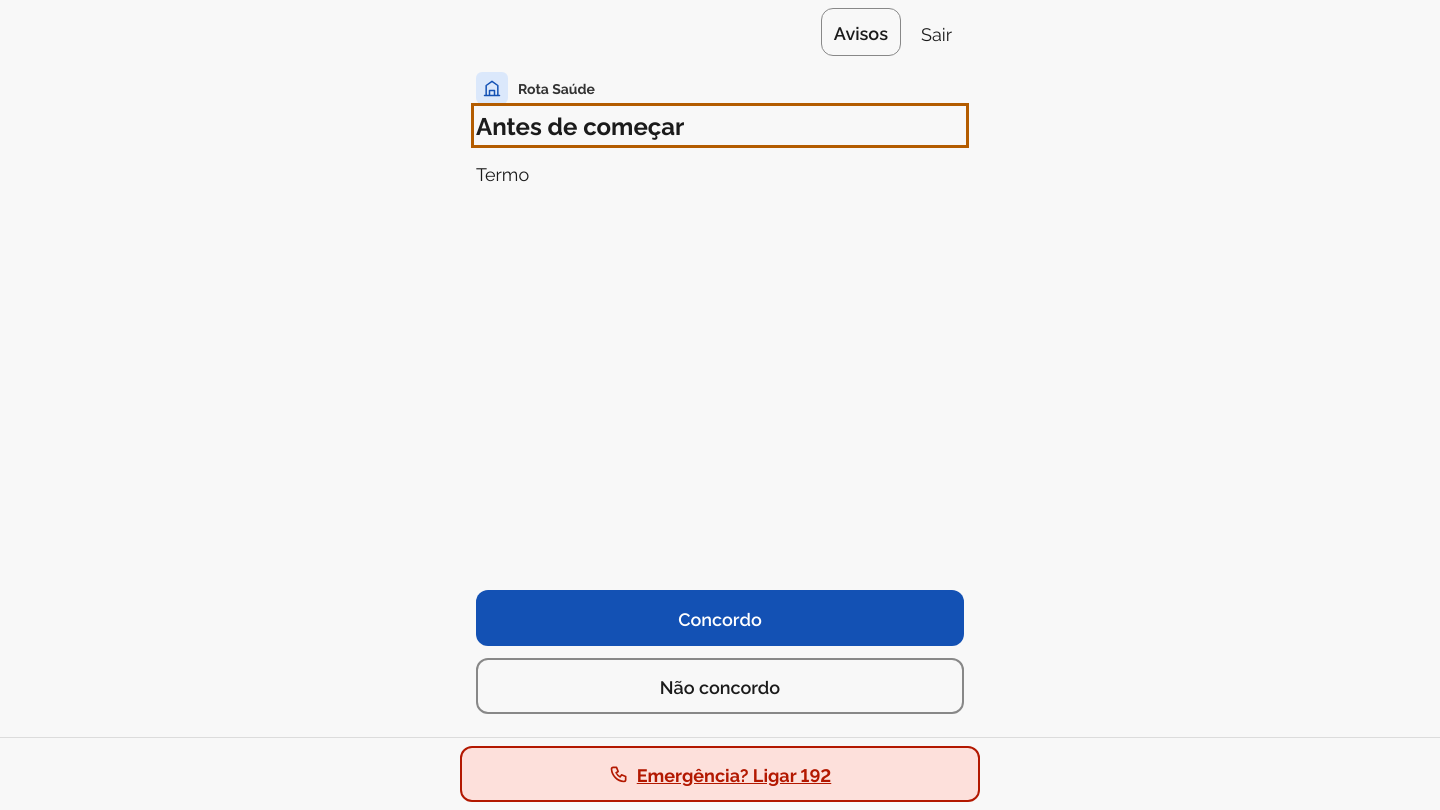
Test case: Flow — Ouvidoria (módulo 33) › com sessão: Para quem é → Ouvidoria → Nova manifestação → Voltar
Click the button "Concordo" at (720,618), box left=476, top=590, right=964, bottom=646
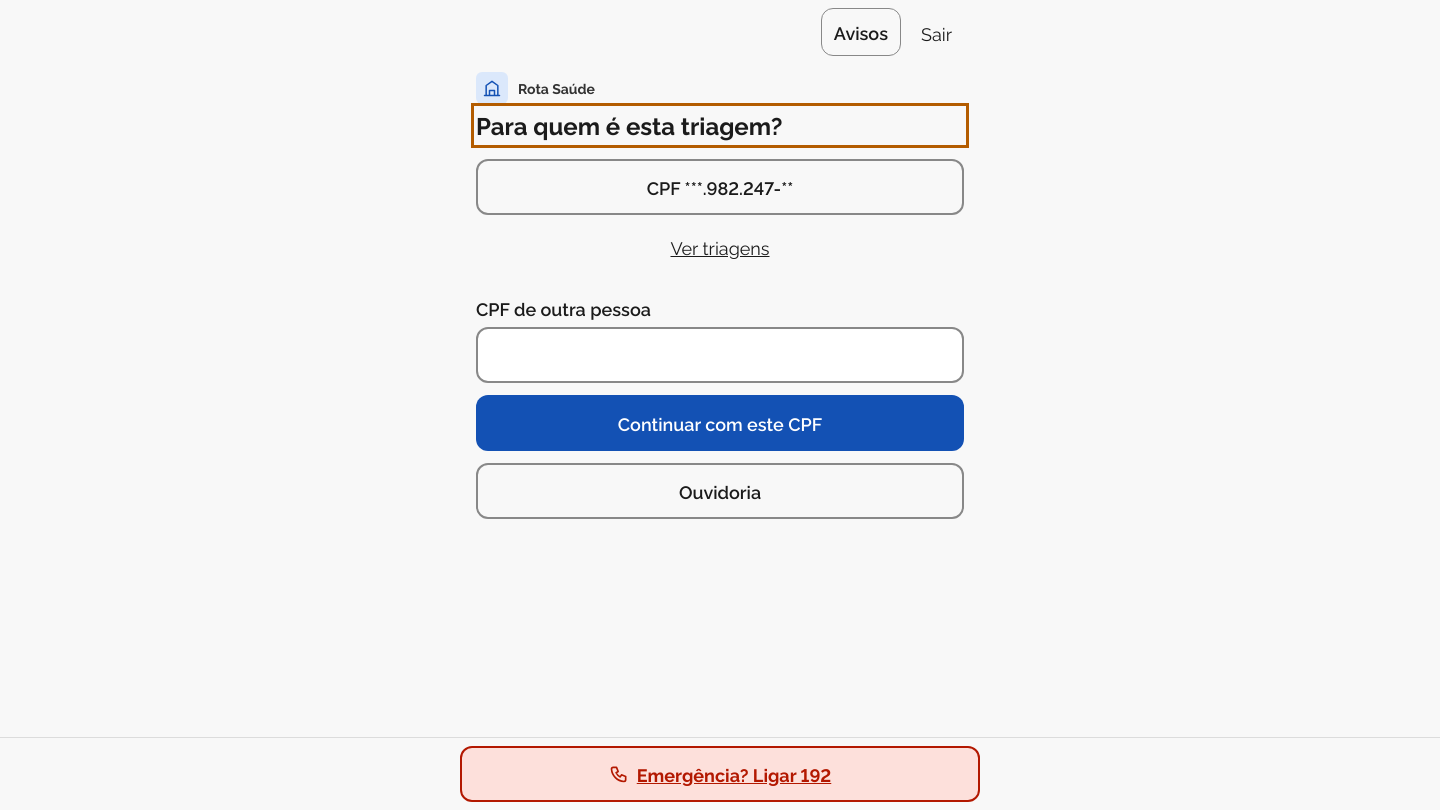
Click the button "Ouvidoria" at (720,491), box left=476, top=463, right=964, bottom=519
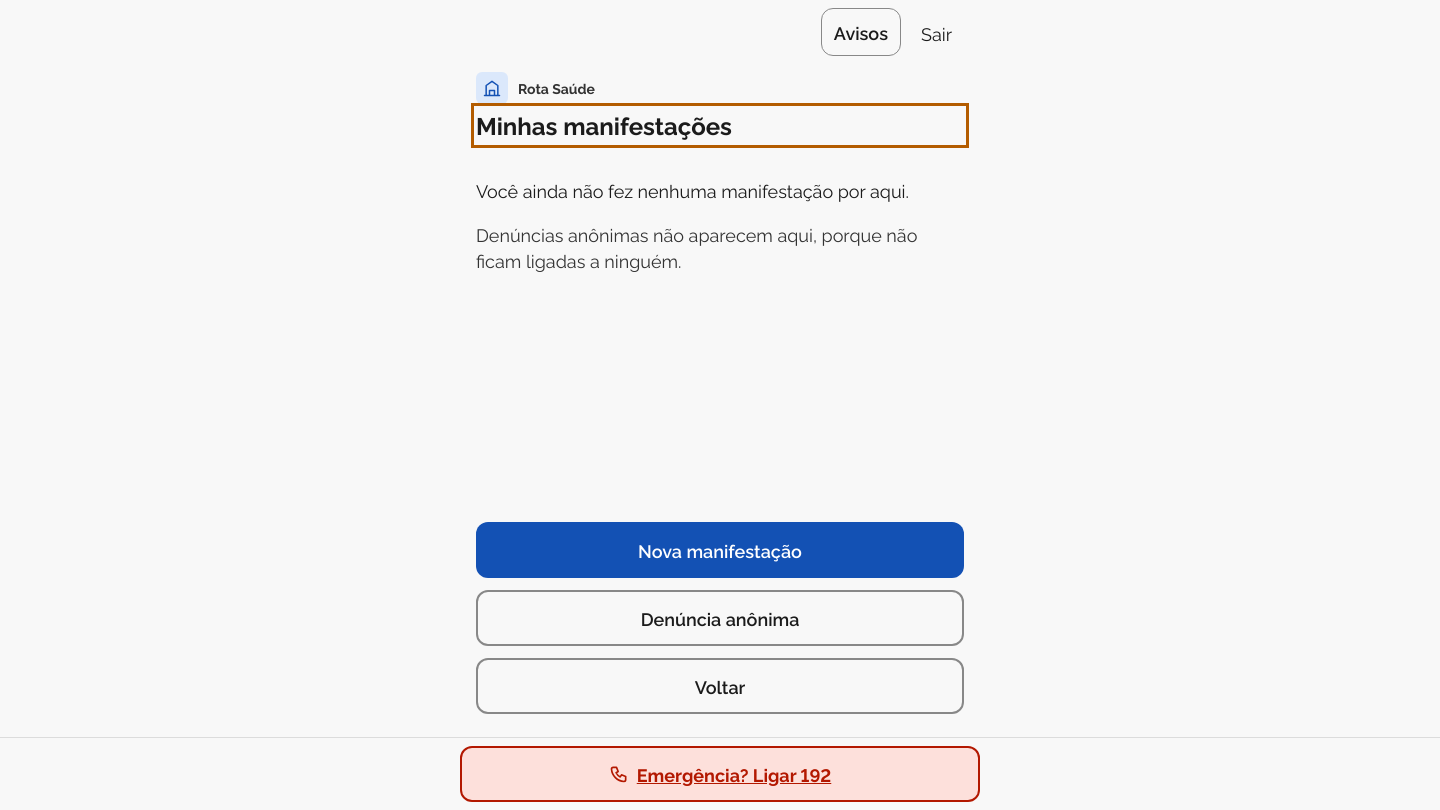
Expected: the button "Sair" is shown, left=909, top=8, right=964, bottom=56
Result: the heading "Minhas manifestações" is shown at left=476, top=108, right=732, bottom=141
Click the button "Nova manifestação" at (720,550), box left=476, top=522, right=964, bottom=578
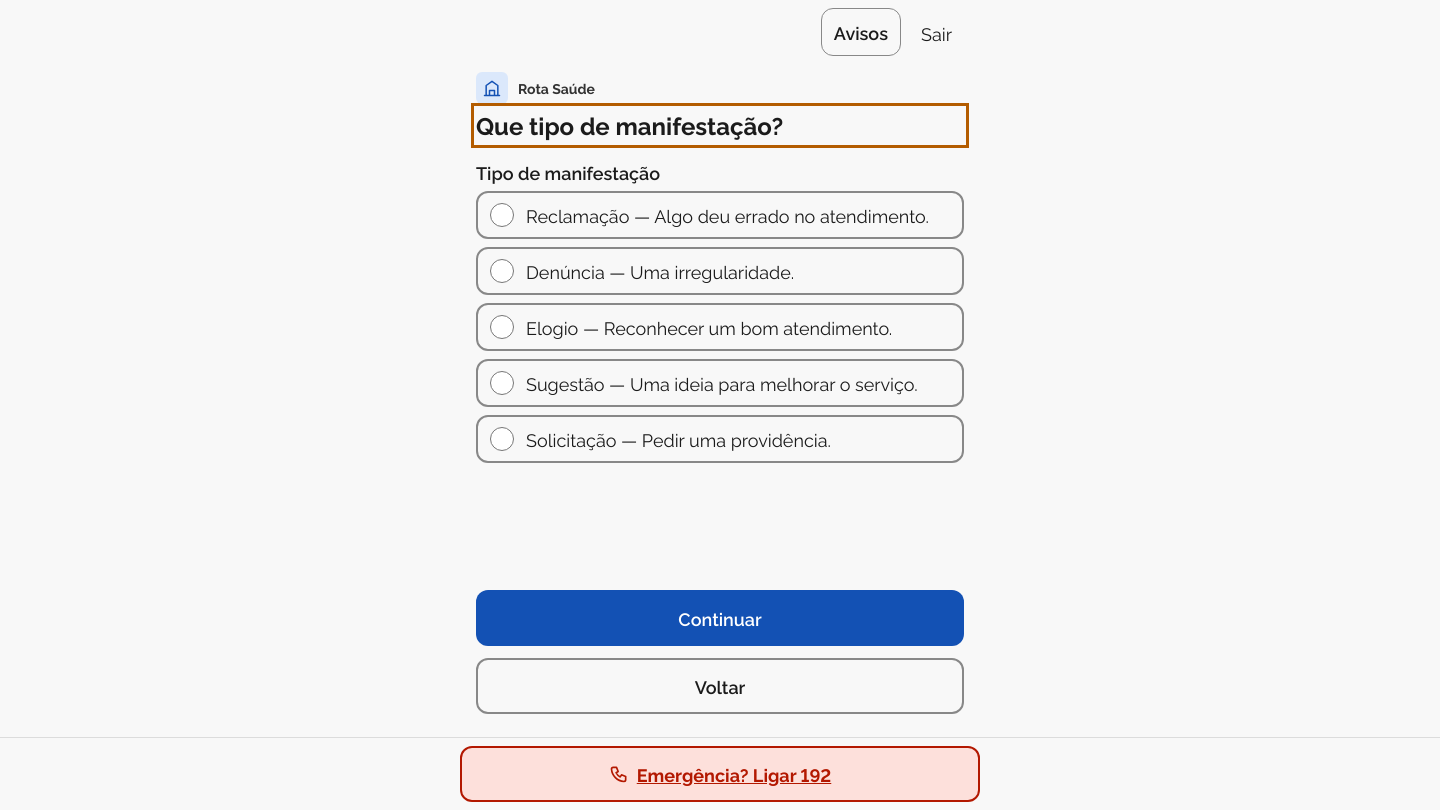
Result: the heading "Que tipo de manifestação?" is shown at left=476, top=108, right=783, bottom=141
Click the button "Voltar" at (720,686), box left=476, top=658, right=964, bottom=714
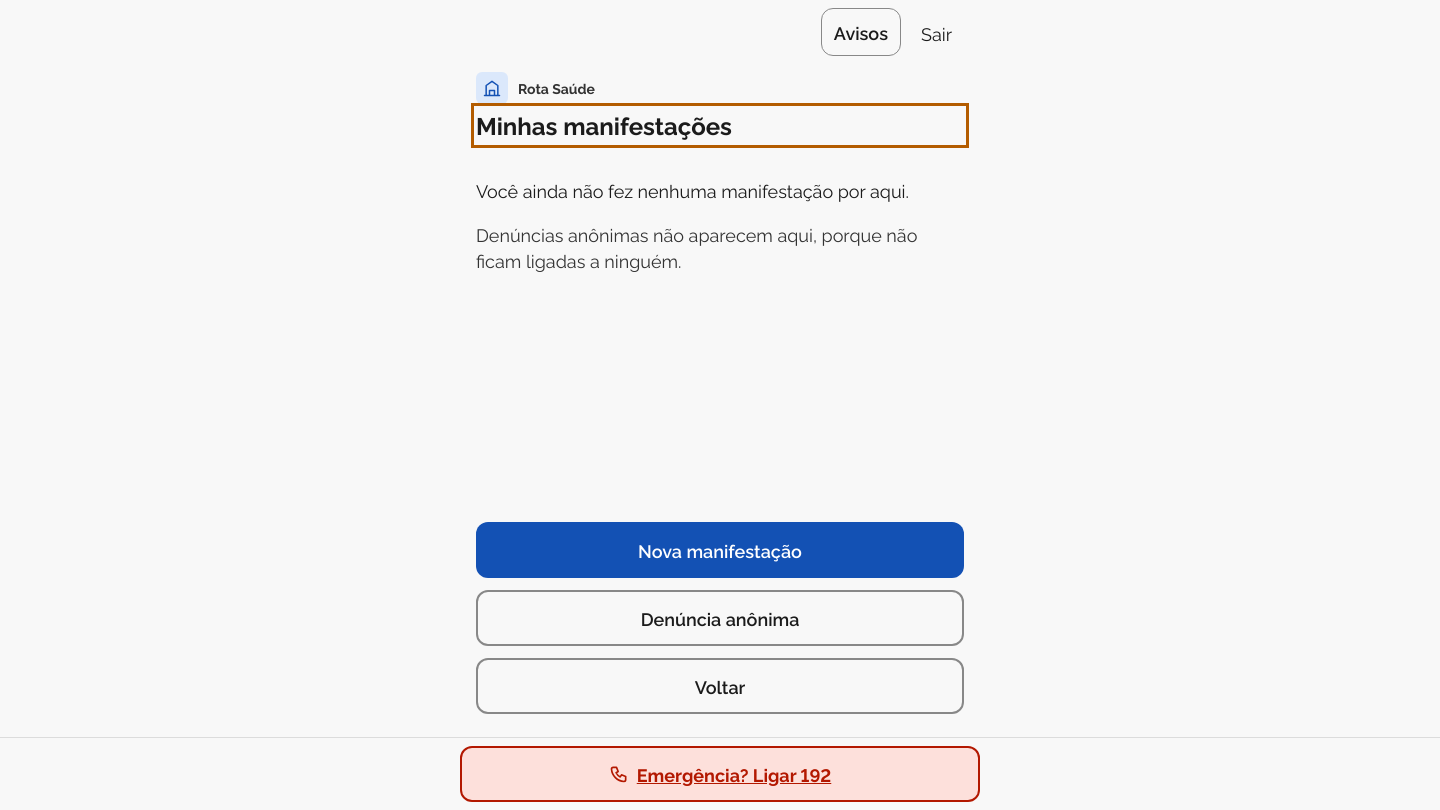
Result: the heading "Minhas manifestações" is shown at left=476, top=108, right=732, bottom=141
Click the button "Voltar" at (720,686), box left=476, top=658, right=964, bottom=714
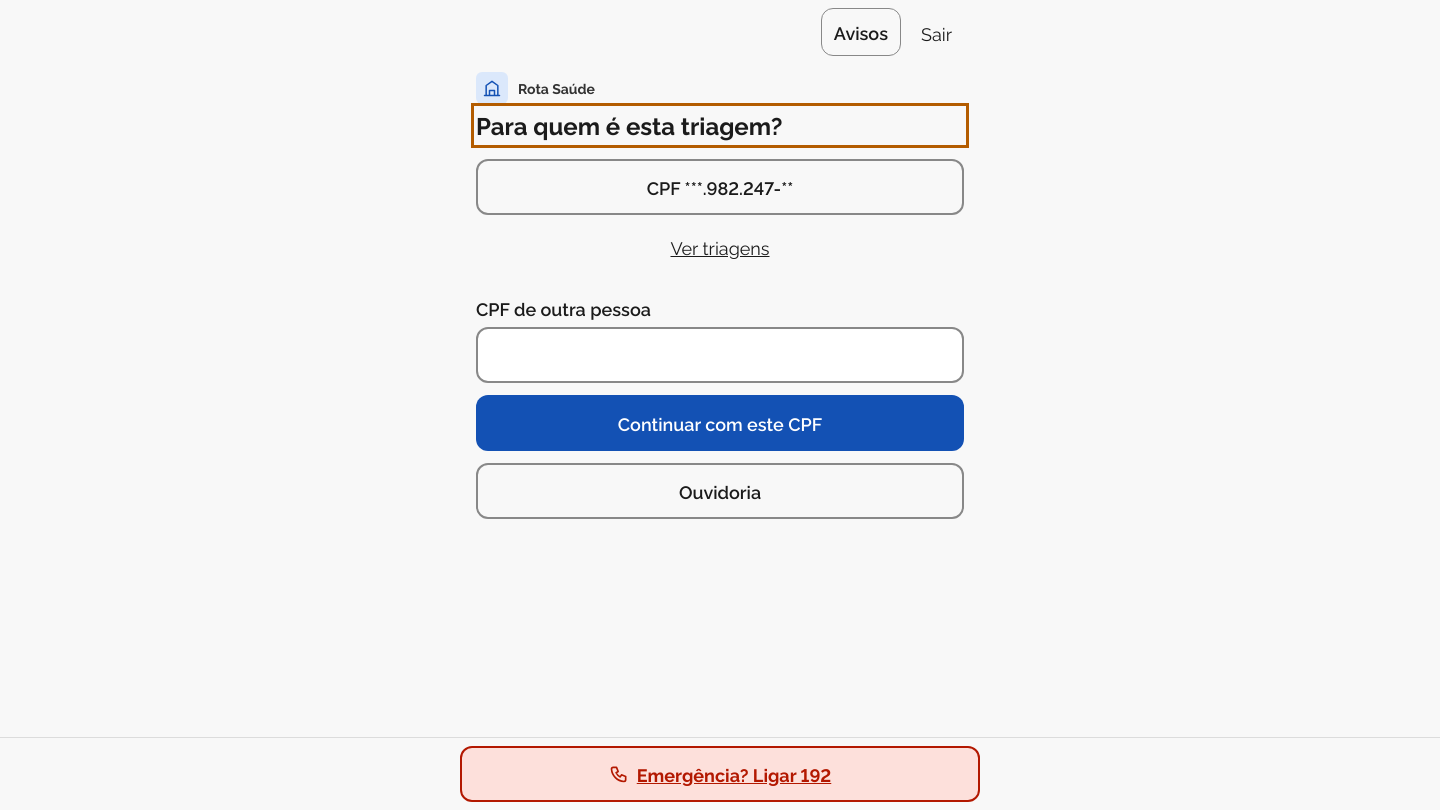
Result: the heading "Para quem é esta triagem?" is shown at left=476, top=108, right=782, bottom=141
